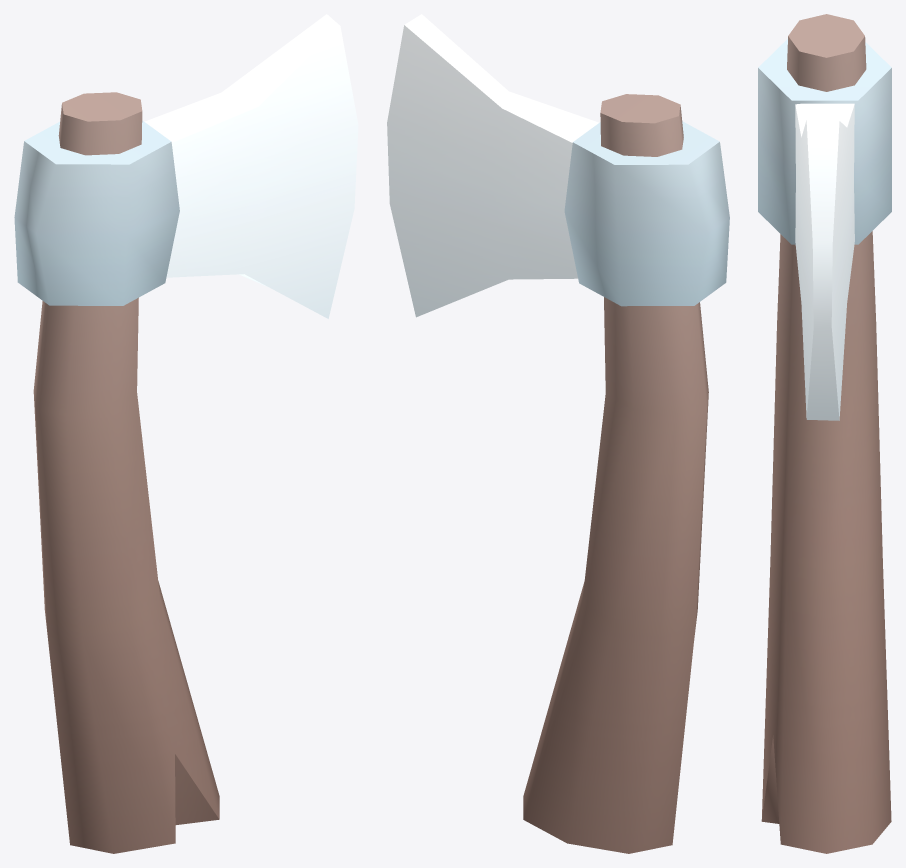
Rendered from axe_001.glb.
3 views of the same model, side by side, from view 1: azimuth 30°, elevation 25°; view 2: azimuth 150°, elevation 25°; view 3: azimuth 270°, elevation 25° (orthographic). The views are drawn at different scales.
Visible parts, largest first — view 1: axe_001; view 2: axe_001; view 3: axe_001.
Boxes of the visible parts, box(x1,y1,x2,y2) form: axe_001: box(14, 14, 358, 853); axe_001: box(387, 14, 729, 853); axe_001: box(758, 14, 891, 853).
Bounding box in the file's own units: 0.6664 × 1.48 × 0.2225.
1 material, 1 textured.
